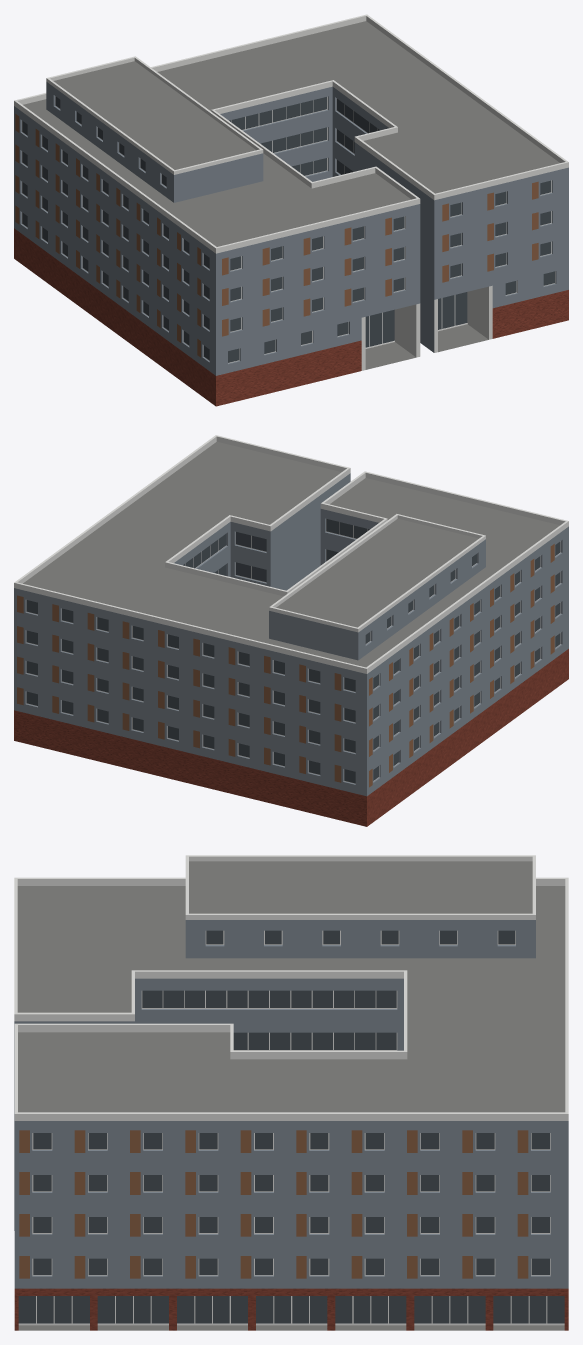
3 views of the same model, one above another, from view 1: azimuth 30°, elevation 25°; view 2: azimuth 150°, elevation 25°; view 3: azimuth 270°, elevation 25° (orthographic). The views are drawn at different scales.
Visible parts, largest first — view 1: yanghyeon__wall, yanghyeon__roof, yanghyeon__trim, yanghyeon__brick, yanghyeon__glass, yanghyeon__copper, yanghyeon__frame; view 2: yanghyeon__wall, yanghyeon__roof, yanghyeon__brick, yanghyeon__trim, yanghyeon__glass, yanghyeon__copper, yanghyeon__frame; view 3: yanghyeon__roof, yanghyeon__wall, yanghyeon__glass, yanghyeon__trim, yanghyeon__copper, yanghyeon__brick, yanghyeon__frame.
Part boxes in pixels (x1,y1,x2,y2): yanghyeon__wall: [14, 82, 568, 375]; yanghyeon__roof: [23, 21, 559, 369]; yanghyeon__trim: [14, 14, 568, 370]; yanghyeon__brick: [14, 228, 568, 406]; yanghyeon__glass: [22, 96, 554, 362]; yanghyeon__copper: [15, 114, 538, 357]; yanghyeon__frame: [22, 96, 555, 363]; yanghyeon__wall: [14, 473, 568, 796]; yanghyeon__roof: [23, 442, 559, 667]; yanghyeon__brick: [14, 649, 568, 826]; yanghyeon__trim: [14, 435, 568, 673]; yanghyeon__glass: [26, 519, 560, 783]; yanghyeon__copper: [17, 544, 554, 787]; yanghyeon__frame: [26, 519, 560, 783]; yanghyeon__roof: [17, 861, 565, 1330]; yanghyeon__wall: [14, 920, 568, 1288]; yanghyeon__glass: [18, 930, 564, 1323]; yanghyeon__trim: [14, 855, 568, 1120]; yanghyeon__copper: [19, 1130, 528, 1278]; yanghyeon__brick: [14, 1288, 568, 1330]; yanghyeon__frame: [18, 930, 564, 1325].
Bounding box in the file's own units: 42.37 × 21.1 × 41.99.
7 materials, 1 textured.
